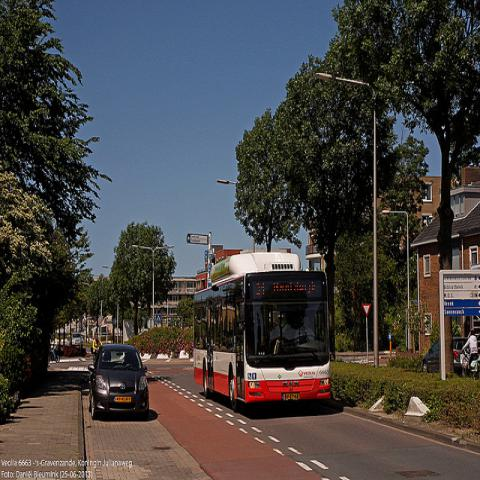bus: (193, 255, 331, 407)
car: (88, 345, 149, 420), (421, 337, 470, 372), (71, 333, 83, 350), (93, 325, 112, 335)
motorcycle: (461, 350, 480, 380)
